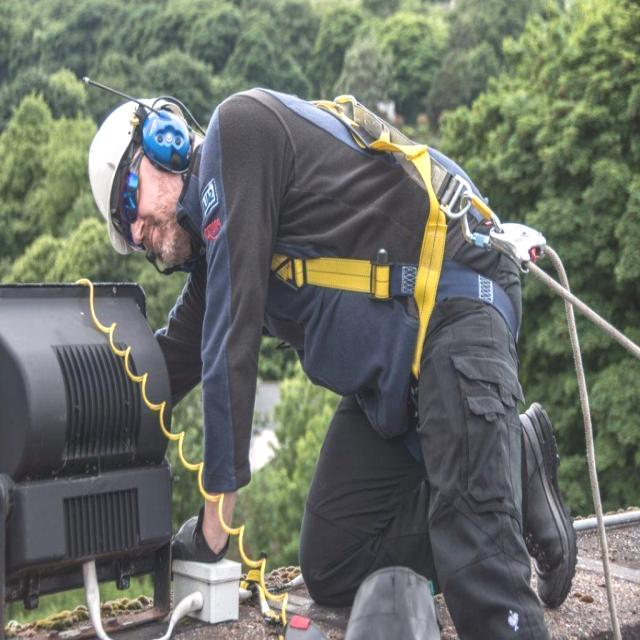face_nomask: (123, 160, 199, 278)
glasses: (117, 158, 142, 239)
hand_glove: (169, 495, 235, 568)
head_helmet: (85, 95, 172, 252)
person: (95, 97, 572, 620)
